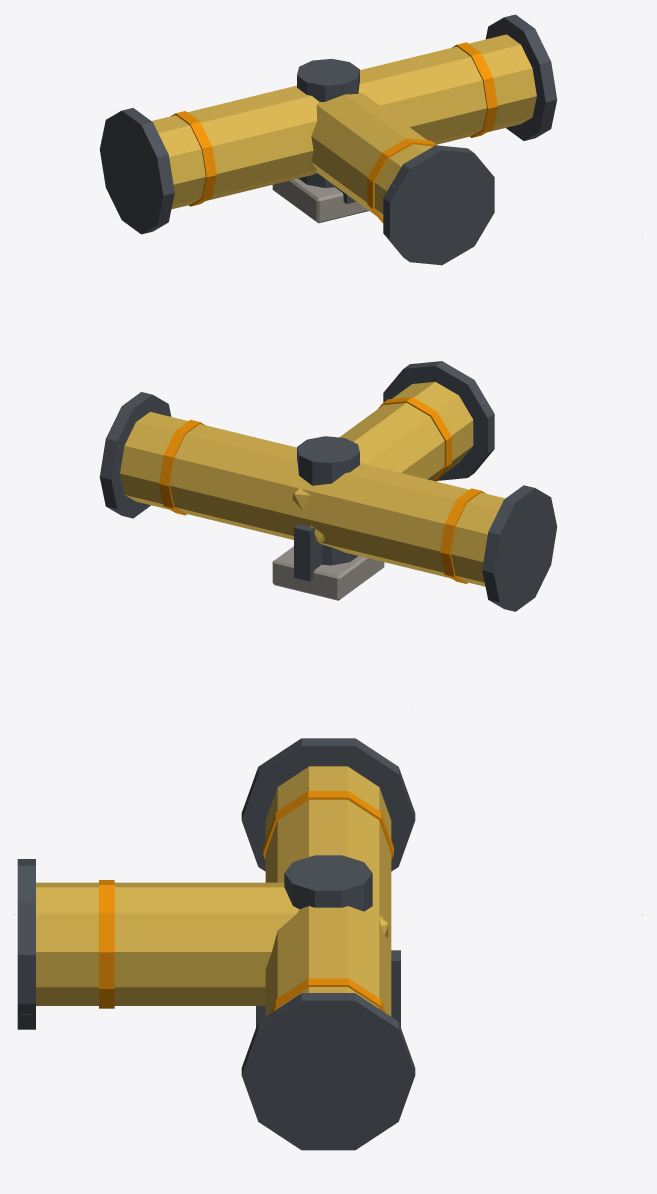
File: tuyau_te_t2.glb
3 renders of one model, top to bottom at view 1: azimuth 30°, elevation 25°; view 2: azimuth 150°, elevation 25°; view 3: azimuth 270°, elevation 25°, orthographic. The views are drawn at different scales.
Parts seen in each view (by area): view 1: pieces_laiton.014, pieces_acier_sombre.044, pieces_rive_t2.014, pieces_beton.044; view 2: pieces_laiton.014, pieces_acier_sombre.044, pieces_rive_t2.014, pieces_beton.044; view 3: pieces_laiton.014, pieces_acier_sombre.044, pieces_rive_t2.014.
Part boxes in pixels (<box>): pieces_laiton.014: <box>152,34,536,217</box>; pieces_acier_sombre.044: <box>99,14,557,265</box>; pieces_rive_t2.014: <box>171,42,497,222</box>; pieces_beton.044: <box>272,178,368,223</box>; pieces_laiton.014: <box>120,382,505,586</box>; pieces_acier_sombre.044: <box>99,361,557,611</box>; pieces_rive_t2.014: <box>159,397,485,583</box>; pieces_beton.044: <box>272,546,384,600</box>; pieces_laiton.014: <box>36,766,391,1016</box>; pieces_acier_sombre.044: <box>17,738,415,1150</box>; pieces_rive_t2.014: <box>99,791,393,1012</box>.
Size of the model in its own units: 1 by 0.318 by 1.
